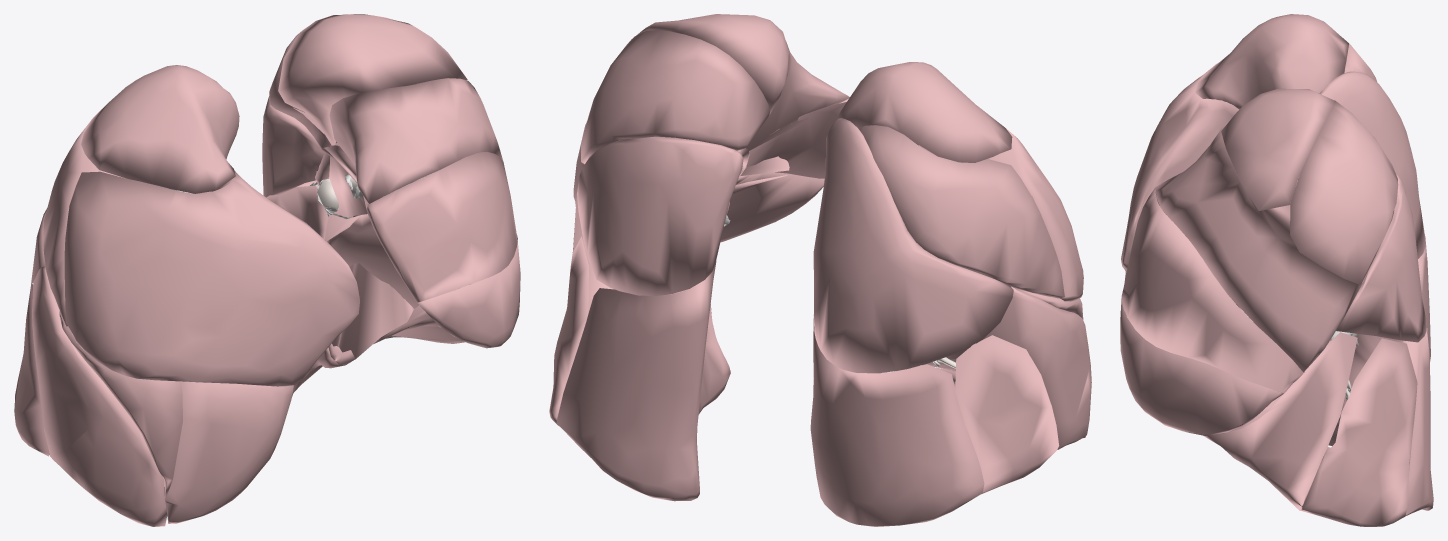
The model's file is 3d-vh-f-lung-20.fbx.
3 views of the same model, side by side, from view 1: azimuth 30°, elevation 25°; view 2: azimuth 150°, elevation 25°; view 3: azimuth 270°, elevation 25° (orthographic). The views are drawn at different scales.
Visible parts, largest first — view 1: VH_F_right_anterior_bronchopulmonary_segm, VH_F_right_anterior_basal_bronchopulmonary_segment, VH_F_lingula_superior_bronchopulmonary_segment, VH_F_right_apical_bronchopulmonary_segment, VH_F_left_anterior_bronchopulmonary_segment, VH_F_left_apical_bronchopulmonary_segment, VH_F_right_medial_bronchopulmonary_segment, VH_F_left_medial_basal_bronchopulmonary_segment, VH_F_lingula_inferior_bronchopulmonary_segment, VH_F_right_lateral_bronchopulmonary_segmennt, VH_F_left_superior_bronchopulmonary_segment, VH_F_right_posterior_bronchopulmonary_segment (+5 smaller); view 2: VH_F_right_superior_bronchopulmonary_segment, VH_F_left_posterior_basal_bronchopulmonary_segment, VH_F_right_posterior_basal_bronchopulmonary_segment, VH_F_left_superior_bronchopulmonary_segment, VH_F_right_posterior_bronchopulmonary_segment, VH_F_left_posterior_bronchopulmonary_segment, VH_F_right_lateral_basal_bronchopulmonary_segment, VH_F_right_apical_bronchopulmonary_segment, VH_F_right_anterior_basal_bronchopulmonary_segment, VH_F_left_apical_bronchopulmonary_segment, VH_F_lingula_superior_bronchopulmonary_segment, VH_F_lingula_inferior_bronchopulmonary_segment (+4 smaller); view 3: VH_F_left_anterior_bronchopulmonary_segment, VH_F_lingula_superior_bronchopulmonary_segment, VH_F_left_lateral_basal_bronchopulmonary_segment, VH_F_left_posterior_bronchopulmonary_segment, VH_F_left_anterior_basal_bronchopulmonary_segment, VH_F_lingula_inferior_bronchopulmonary_segment, VH_F_right_apical_bronchopulmonary_segment, VH_F_left_apical_bronchopulmonary_segment, VH_F_left_superior_bronchopulmonary_segment, VH_F_right_anterior_bronchopulmonary_segm, VH_F_right_superior_bronchopulmonary_segment, VH_F_left_posterior_basal_bronchopulmonary_segment (+2 smaller).
Part boxes in pixels (bbox=[...]): VH_F_right_anterior_bronchopulmonary_segm: bbox=[64, 170, 359, 386]; VH_F_right_anterior_basal_bronchopulmonary_segment: bbox=[32, 266, 167, 526]; VH_F_lingula_superior_bronchopulmonary_segment: bbox=[363, 151, 517, 302]; VH_F_right_apical_bronchopulmonary_segment: bbox=[81, 65, 239, 193]; VH_F_left_anterior_bronchopulmonary_segment: bbox=[329, 78, 503, 203]; VH_F_left_apical_bronchopulmonary_segment: bbox=[278, 14, 467, 145]; VH_F_right_medial_bronchopulmonary_segment: bbox=[164, 381, 293, 523]; VH_F_left_medial_basal_bronchopulmonary_segment: bbox=[325, 214, 418, 365]; VH_F_lingula_inferior_bronchopulmonary_segment: bbox=[417, 241, 520, 348]; VH_F_right_lateral_bronchopulmonary_segmennt: bbox=[59, 311, 182, 499]; VH_F_left_superior_bronchopulmonary_segment: bbox=[262, 96, 339, 197]; VH_F_right_posterior_bronchopulmonary_segment: bbox=[43, 109, 159, 326]; VH_F_right_superior_bronchopulmonary_segment: bbox=[813, 118, 1013, 373]; VH_F_left_posterior_basal_bronchopulmonary_segment: bbox=[556, 261, 730, 501]; VH_F_right_posterior_basal_bronchopulmonary_segment: bbox=[810, 318, 984, 526]; VH_F_left_superior_bronchopulmonary_segment: bbox=[577, 136, 743, 295]; VH_F_right_posterior_bronchopulmonary_segment: bbox=[859, 125, 1064, 298]; VH_F_left_posterior_bronchopulmonary_segment: bbox=[581, 30, 769, 164]; VH_F_right_lateral_basal_bronchopulmonary_segment: bbox=[896, 335, 1059, 493]; VH_F_right_apical_bronchopulmonary_segment: bbox=[837, 62, 1012, 162]; VH_F_right_anterior_basal_bronchopulmonary_segment: bbox=[922, 286, 1091, 449]; VH_F_left_apical_bronchopulmonary_segment: bbox=[631, 14, 788, 115]; VH_F_lingula_superior_bronchopulmonary_segment: bbox=[734, 93, 848, 189]; VH_F_lingula_inferior_bronchopulmonary_segment: bbox=[720, 172, 824, 242]; VH_F_left_anterior_bronchopulmonary_segment: bbox=[1155, 126, 1362, 372]; VH_F_lingula_superior_bronchopulmonary_segment: bbox=[1121, 187, 1304, 393]; VH_F_left_lateral_basal_bronchopulmonary_segment: bbox=[1302, 338, 1417, 526]; VH_F_left_posterior_bronchopulmonary_segment: bbox=[1290, 100, 1398, 284]; VH_F_left_anterior_basal_bronchopulmonary_segment: bbox=[1203, 332, 1357, 510]; VH_F_lingula_inferior_bronchopulmonary_segment: bbox=[1120, 296, 1283, 435]; VH_F_right_apical_bronchopulmonary_segment: bbox=[1195, 14, 1348, 109]; VH_F_left_apical_bronchopulmonary_segment: bbox=[1221, 88, 1334, 210]; VH_F_left_superior_bronchopulmonary_segment: bbox=[1336, 174, 1426, 342]; VH_F_right_anterior_bronchopulmonary_segm: bbox=[1121, 63, 1239, 272]; VH_F_right_superior_bronchopulmonary_segment: bbox=[1319, 71, 1425, 258]; VH_F_left_posterior_basal_bronchopulmonary_segment: bbox=[1328, 328, 1433, 516].
Size of the model in its own units: 25.12 by 22.31 by 15.26.
